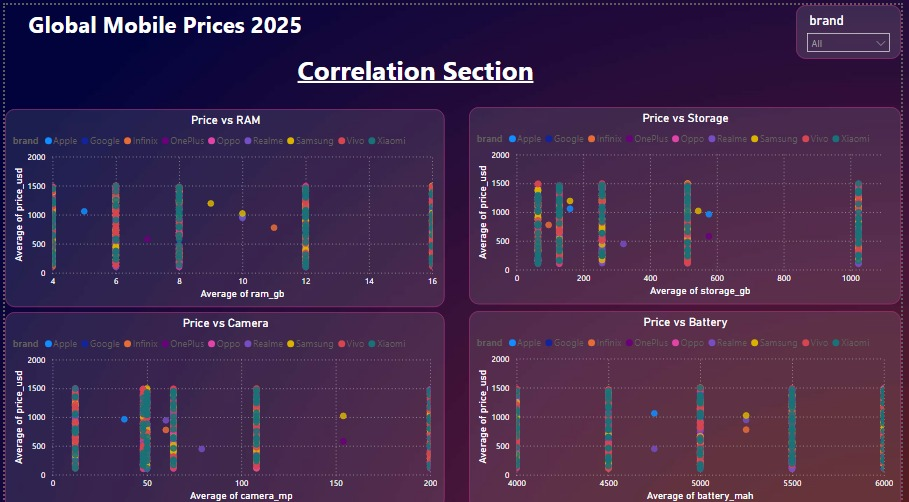

What the dashboard file says about the page in this screenshot:
{"tool":"powerbi","page":{"name":"Page 3","canvas":[1280,720],"ordinal":2},"visuals":[{"type":"scatterChart","title":"Price vs RAM","fields":{"X":["Avg(Global_Mobile_Prices_2025_Extended.ram_gb)"],"Y":["Avg(Global_Mobile_Prices_2025_Extended.price_usd)"],"Category":["Global_Mobile_Prices_2025_Extended.model"],"Series":["Global_Mobile_Prices_2025_Extended.brand"]},"box":[0,148.3,628.3,283.3],"z":0},{"type":"scatterChart","title":"Price vs Storage","fields":{"X":["Avg(Global_Mobile_Prices_2025_Extended.storage_gb)"],"Y":["Avg(Global_Mobile_Prices_2025_Extended.price_usd)"],"Category":["Global_Mobile_Prices_2025_Extended.model"],"Series":["Global_Mobile_Prices_2025_Extended.brand"]},"box":[663.3,145,616.7,281.7],"z":1000},{"type":"scatterChart","title":"Price vs Camera","fields":{"Y":["Avg(Global_Mobile_Prices_2025_Extended.price_usd)"],"Category":["Global_Mobile_Prices_2025_Extended.model"],"X":["Avg(Global_Mobile_Prices_2025_Extended.camera_mp)"],"Series":["Global_Mobile_Prices_2025_Extended.brand"]},"box":[0,438.3,628.3,281.7],"z":2000},{"type":"scatterChart","title":"Price vs Battery","fields":{"Y":["Avg(Global_Mobile_Prices_2025_Extended.price_usd)"],"Category":["Global_Mobile_Prices_2025_Extended.model"],"Series":["Global_Mobile_Prices_2025_Extended.brand"],"X":["Avg(Global_Mobile_Prices_2025_Extended.battery_mah)"]},"box":[663.3,436.7,616.7,283.3],"z":3000},{"type":"textbox","title":"Global Mobile Prices 2025","box":[28.3,0,741.7,61.7],"z":4000},{"type":"slicer","fields":{"Values":["Global_Mobile_Prices_2025_Extended.brand"]},"box":[1130,0,150,76.7],"z":5000},{"type":"textbox","title":"Global Mobile Prices 2025","box":[201.7,61.7,770,61.7],"z":6000}]}

Visuals, with their boxes in screenshot pixels (x1, y1, x2, y2), scaled from the page's 1280x720 canvas onto the 909x502 screenshot:
"Price vs RAM" scatterChart: (x1=0, y1=103, x2=446, y2=301)
"Price vs Storage" scatterChart: (x1=471, y1=101, x2=908, y2=298)
"Price vs Camera" scatterChart: (x1=0, y1=306, x2=446, y2=501)
"Price vs Battery" scatterChart: (x1=471, y1=304, x2=908, y2=501)
"Global Mobile Prices 2025" textbox: (x1=20, y1=0, x2=547, y2=43)
slicer - Global_Mobile_Prices_2025_Extended.brand: (x1=802, y1=0, x2=908, y2=53)
"Global Mobile Prices 2025" textbox: (x1=143, y1=43, x2=690, y2=86)
